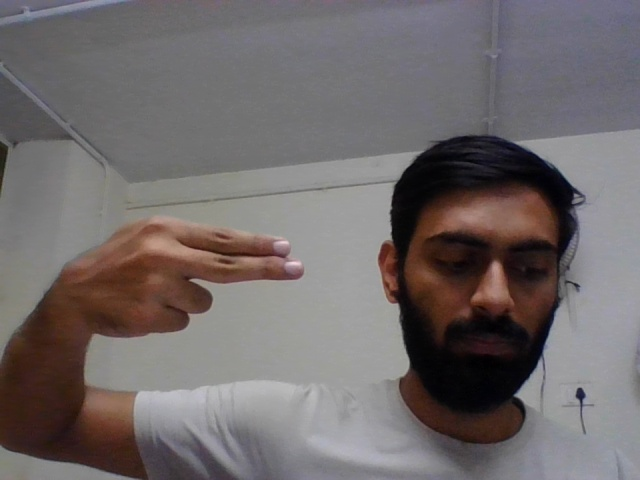H: (65, 212, 311, 342)
